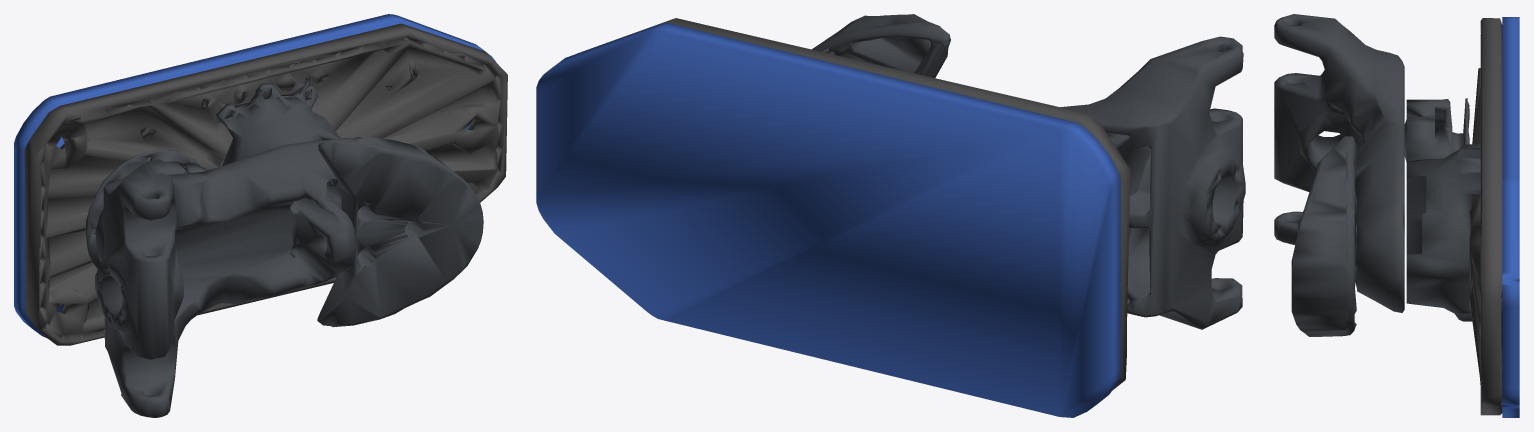
Rendered from foot.obj.
The picture shows the model from 3 angles, left to right: view 1: azimuth 30°, elevation 25°; view 2: azimuth 150°, elevation 25°; view 3: azimuth 270°, elevation 25°; orthographic projection. The views are drawn at different scales.
Bounding box in the file's own units: 0.25 × 0.12 × 0.113.
